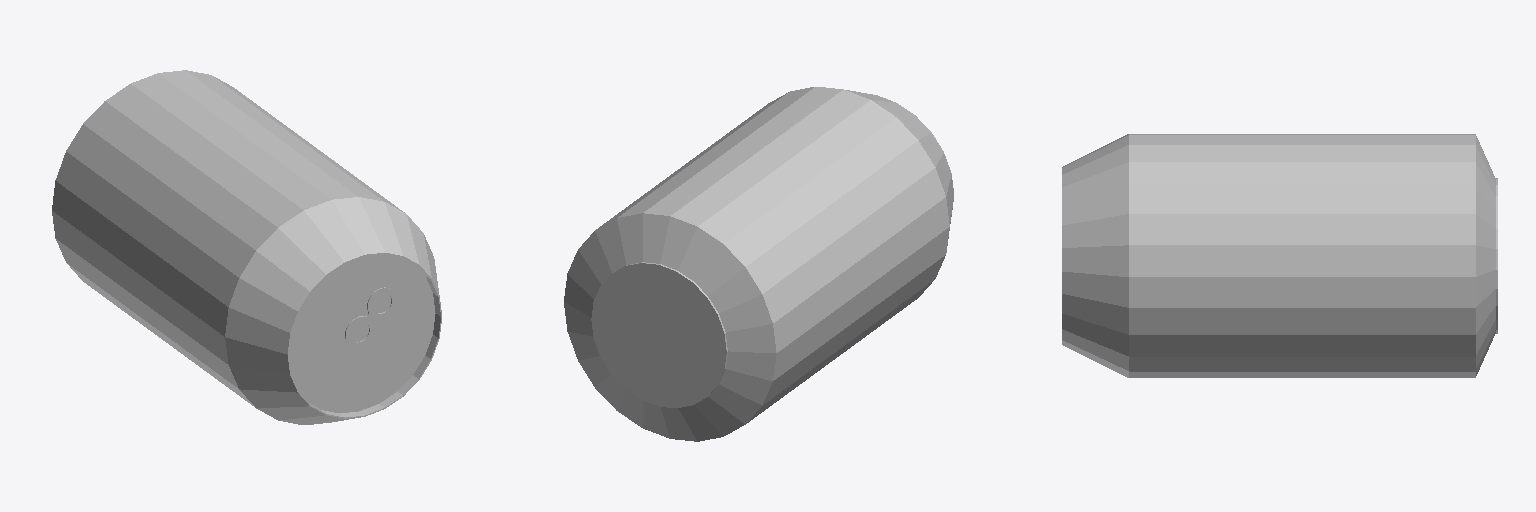
File: model_scale.obj
3 renders of one model, left to right at view 1: azimuth 30°, elevation 25°; view 2: azimuth 150°, elevation 25°; view 3: azimuth 270°, elevation 25°, orthographic.
Parts seen in each view (by area): view 1: mesh1_mesh1-geometry; view 2: mesh1_mesh1-geometry; view 3: mesh1_mesh1-geometry.
Part boxes in pixels (x1,y1,x2,y2): mesh1_mesh1-geometry: (52,70,441,424); mesh1_mesh1-geometry: (564,87,953,441); mesh1_mesh1-geometry: (1062,134,1497,377).
Bounding box in the file's own units: 0.0804 × 0.0804 × 0.1426.